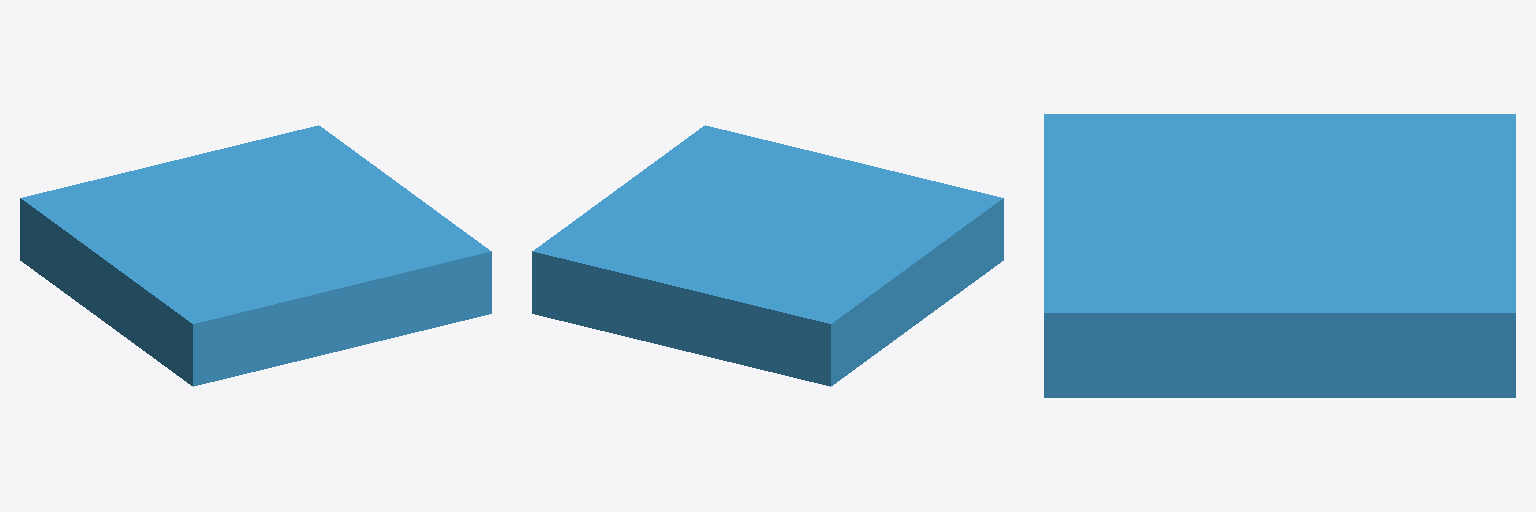
robot.urdf — os1_example:
<?xml version="1.0" ?>
<!-- =================================================================================== -->
<!-- |    This document was autogenerated by xacro from [local-path]/Ouster/gazebo_ws_wilselby/src/ouster_example/ouster_description/urdf/example.urdf.xacro | -->
<!-- |    EDITING THIS FILE BY HAND IS NOT RECOMMENDED                                 | -->
<!-- =================================================================================== -->
<robot name="os1_example">
  <!-- Base Footprint -->
  <link name="base_footprint"/>
  <!-- Base Link -->
  <joint name="footprint" type="fixed">
    <parent link="base_footprint"/>
    <child link="base_link"/>
    <origin rpy="0 0 0" xyz="0 0 0.05"/>
  </joint>
  <link name="base_link">
    <visual>
      <geometry>
        <box size="0.5 0.5 0.1"/>
      </geometry>
    </visual>
    <collision>
      <geometry>
        <box size="0.5 0.5 0.1"/>
      </geometry>
    </collision>
    <inertial>
      <origin xyz="0 0 0"/>
      <mass value="10"/>
      <inertia ixx="3.0" ixy="0.0" ixz="0.0" iyy="3.0" iyz="0.0" izz="3.0"/>
    </inertial>
  </link>
  <joint name="os1_sensor_mount_joint" type="fixed">
    <origin rpy="0 0 0" xyz="0 0 1.2"/>
    <parent link="base_link"/>
    <child link="os1_sensor"/>
  </joint>
  <link name="os1_sensor">
    <inertial>
      <mass value="0.33"/>
      <origin rpy="0 0 0" xyz="0 0 0.0365"/>
      <inertia ixx="0.000241148" ixy="0" ixz="0" iyy="0.000241148" iyz="0" izz="0.000264"/>
    </inertial>
    <collision name="base_collision">
      <origin rpy="0 0 0" xyz="0 0 0.0365"/>
      <geometry>
        <cylinder length="0.073" radius="0.04"/>
      </geometry>
    </collision>
    <visual name="base_visual">
      <origin rpy="0 0 1.5707" xyz="0 0 0.0"/>
      <geometry>
        <mesh filename="[local-path]/Ouster/gazebo_ws_wilselby/src/ouster_example/ouster_description/meshes/os1_64.dae"/>
      </geometry>
    </visual>
  </link>
  <link name="os1_imu"/>
  <link name="os1_lidar"/>
  <joint name="os1_sensor_imu_link_joint" type="fixed">
    <parent link="os1_sensor"/>
    <child link="os1_imu"/>
    <origin rpy="0 0 0" xyz="0.006253 -0.011775 0.007645"/>
  </joint>
  <gazebo reference="os1_imu">
    </gazebo>
  <joint name="os1_sensor_lidar_link_joint" type="fixed">
    <parent link="os1_sensor"/>
    <child link="os1_lidar"/>
    <origin rpy="0 0 0" xyz="0.0 0.0 0.03618"/>
  </joint>
  <!-- Gazebo requires the ouster_gazebo_plugins package -->
  <gazebo reference="os1_sensor">
    <sensor name="os1_sensor-OS1-64" type="ray">
      <pose>0 0 0 0 0 0</pose>
      <visualize>false</visualize>
      <update_rate>10</update_rate>
      <ray>
        <scan>
          <horizontal>
            <samples>220</samples>
            <resolution>1</resolution>
            <min_angle>-3.141592653589793</min_angle>
            <max_angle>3.141592653589793</max_angle>
          </horizontal>
          <vertical>
            <samples>64</samples>
            <resolution>1</resolution>
            <min_angle>-0.26</min_angle>
            <max_angle>0.26</max_angle>
          </vertical>
        </scan>
        <range>
          <min>0.9</min>
          <max>75.0</max>
          <resolution>0.03</resolution>
        </range>
      </ray>
      <plugin filename="libgazebo_ros_ouster_laser.so" name="gazebo_ros_laser_controller">
        <topicName>/os1_cloud_node/points</topicName>
        <frameName>os1_lidar</frameName>
        <min_range>0.9</min_range>
        <max_range>75.0</max_range>
        <gaussianNoise>0.008</gaussianNoise>
      </plugin>
    </sensor>
  </gazebo>
  <!-- IMU -->
  <gazebo>
    <plugin filename="libhector_gazebo_ros_imu.so" name="imu_controller">
      <robotNamespace>/</robotNamespace>
      <updateRate>100.0</updateRate>
      <bodyName>os1_imu</bodyName>
      <topicName>/os1_cloud_node/imu</topicName>
      <accelDrift>0.005 0.005 0.005</accelDrift>
      <accelGaussianNoise>0.005 0.005 0.005</accelGaussianNoise>
      <rateDrift>0.005 0.005 0.005 </rateDrift>
      <rateGaussianNoise>0.005 0.005 0.005 </rateGaussianNoise>
      <headingDrift>0.005</headingDrift>
      <headingGaussianNoise>0.005</headingGaussianNoise>
    </plugin>
  </gazebo>
</robot>

--- Render facts (derived) ---
3 views of the same robot in one strip: view 1: azimuth 30°, elevation 25°; view 2: azimuth 150°, elevation 25°; view 3: azimuth 270°, elevation 25° (orthographic).
Robot: os1_example — 5 links, 4 joints (4 fixed); root link base_footprint; default pose: every joint at zero.
Visible links, largest first — view 1: base_link; view 2: base_link; view 3: base_link.
Link boxes in pixels (x1,y1,x2,y2): base_link: (20, 125, 491, 386); base_link: (532, 125, 1003, 386); base_link: (1044, 114, 1515, 397).
Bounding box of the posed robot: 0.5 × 0.5 × 0.1 m (x, y, z).
Geometry: only primitive shapes (box / cylinder / sphere) drawn; not drawn: 1 mesh visual (reference in a form the renderer does not follow).
